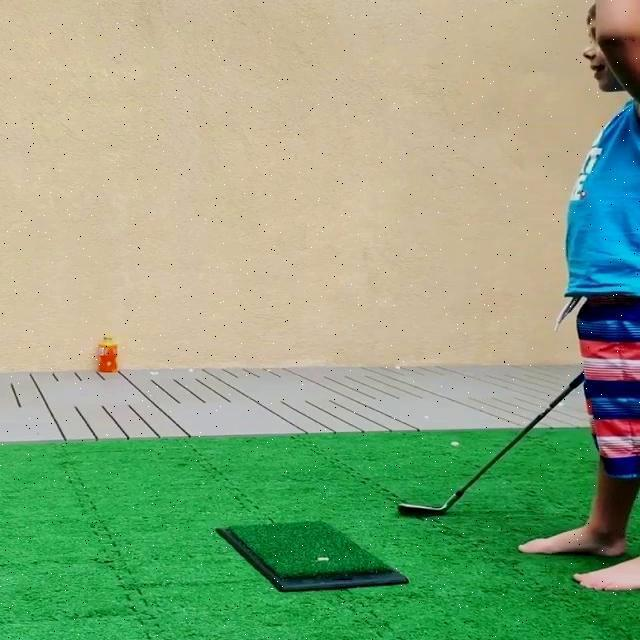ClubHead: (396, 503, 446, 517)
